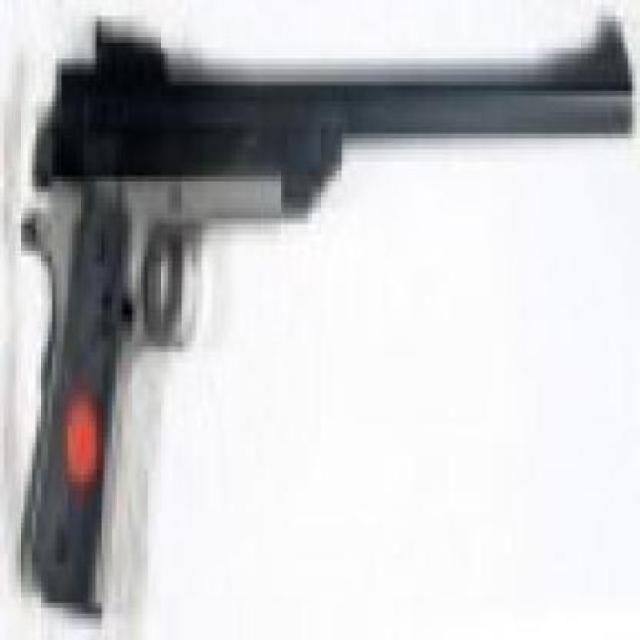gun: (12, 16, 632, 619)
